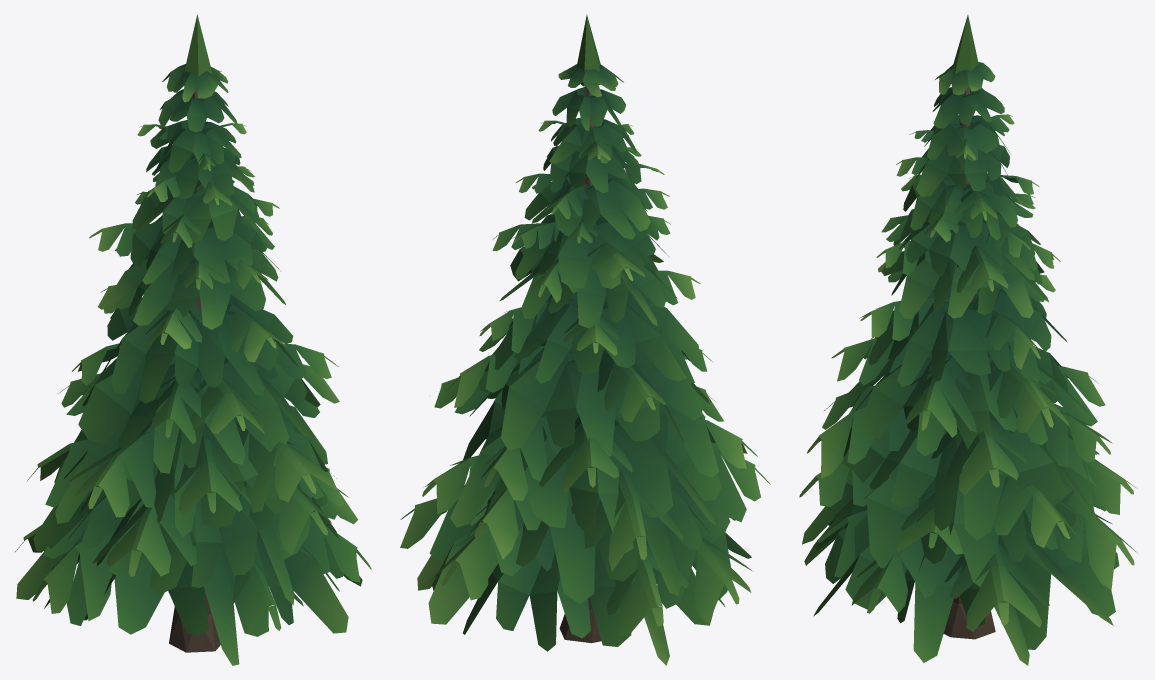
Rendered from spruce_M_normal_std_s16.glb.
3 views of the same model, side by side, from view 1: azimuth 30°, elevation 25°; view 2: azimuth 150°, elevation 25°; view 3: azimuth 270°, elevation 25° (orthographic).
Parts seen in each view (by area): view 1: Tree; view 2: Tree; view 3: Tree.
Boxes of the visible parts, x1,y1,x2,y2 form: Tree: (15,14,371,665); Tree: (400,14,770,665); Tree: (799,15,1137,665).
Size of what is drawn, in the model's own units: 3.3 by 5.99 by 3.02.
